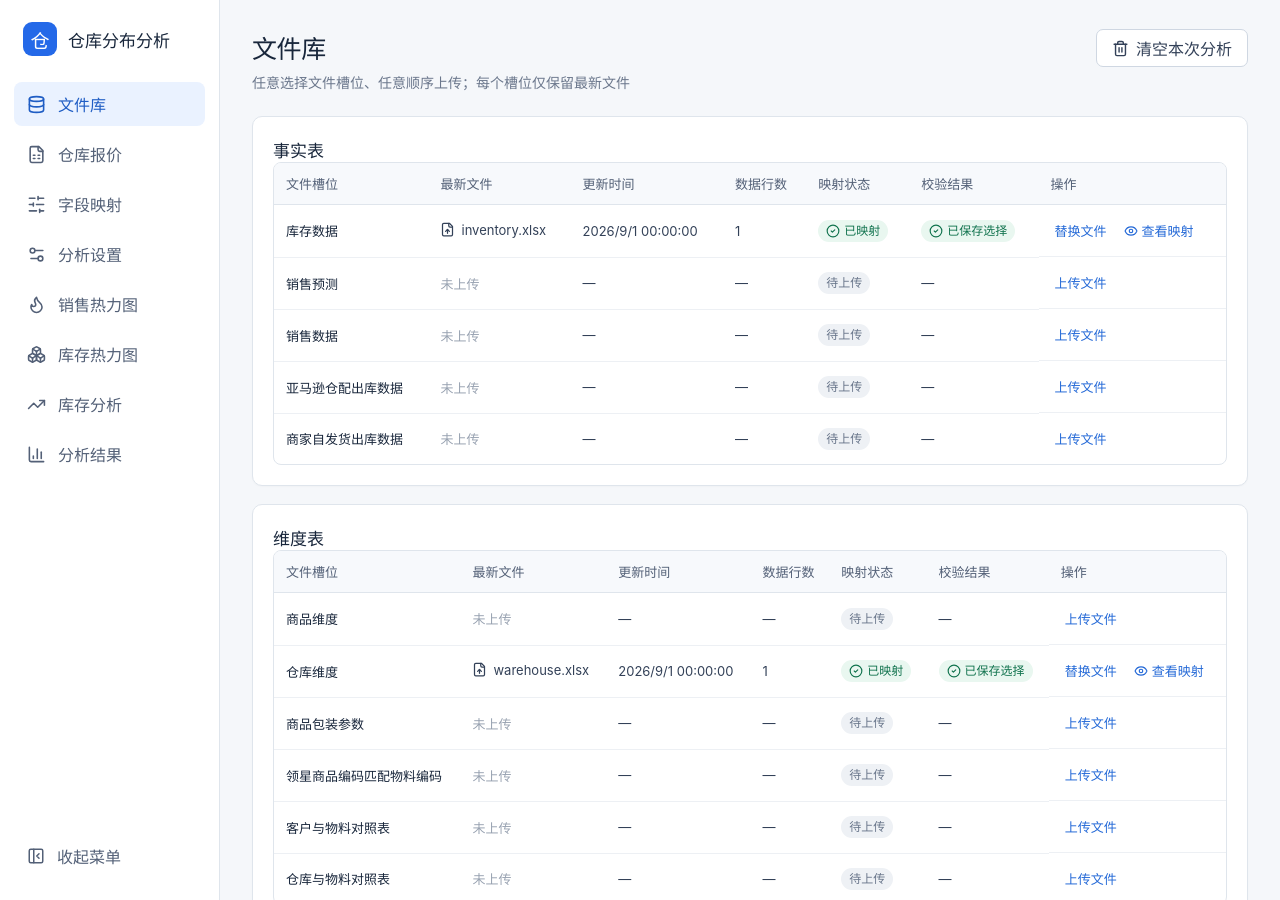
热力图快照 › 热力图页面不依赖销售预测即可重新计算库存并保存快照
Check: the text "inventory.xlsx" is shown, box [440,222,546,238]
Click the button "库存热力图": (110, 354) [14,332,205,376]
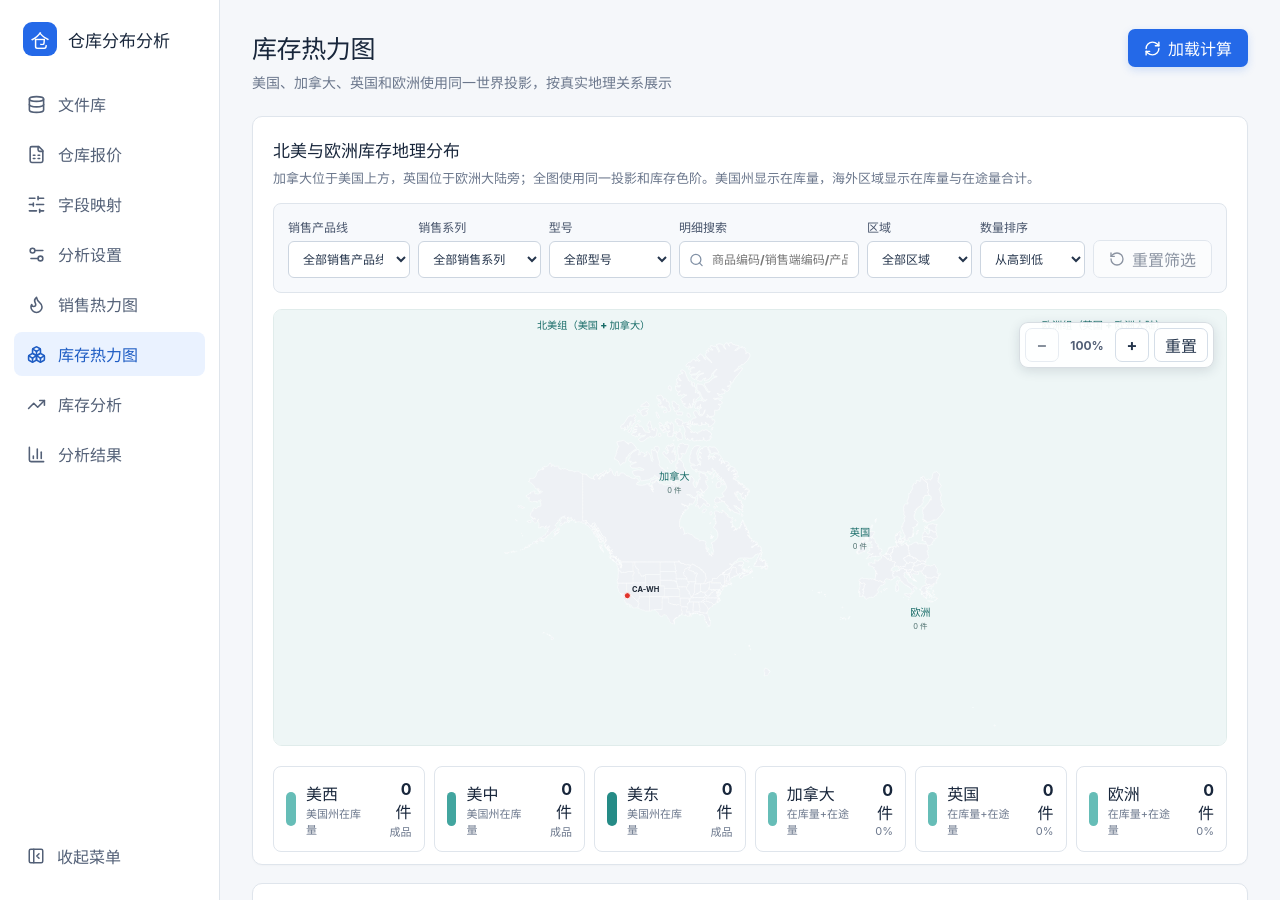
Click the button "加载计算": (1188, 48) [1128,29,1248,67]
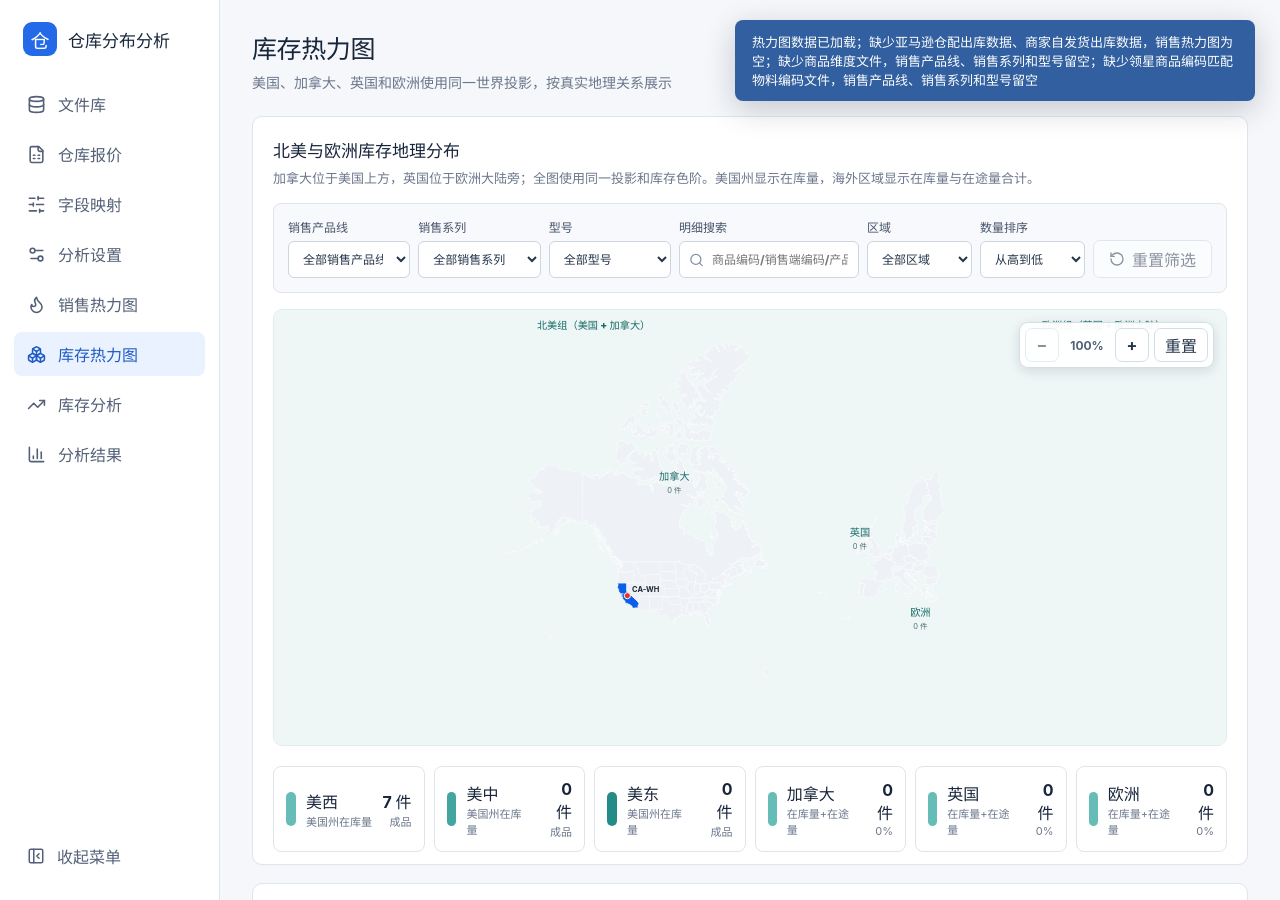
Check: the text "缺少领星商品编码匹配物料编码文件，销售产品线、销售系列和型号留空" is shown, box [752,34,1233,88]
